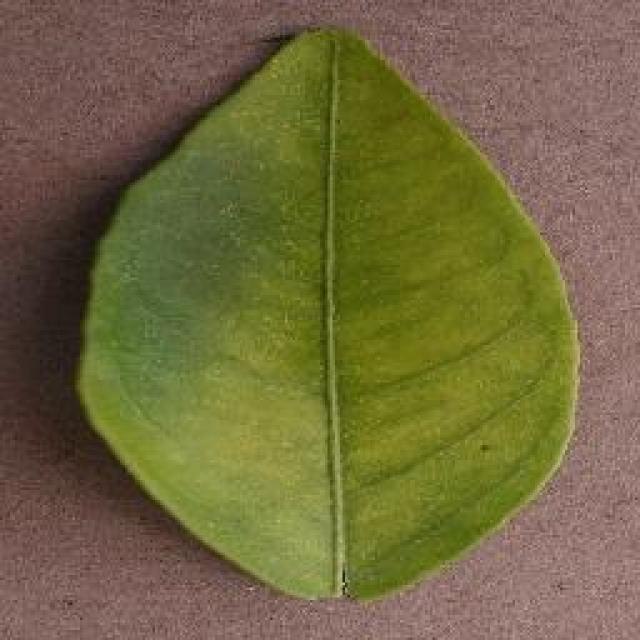Orange_Haunglongbing_Citrus_greening: (130, 102, 510, 570)
